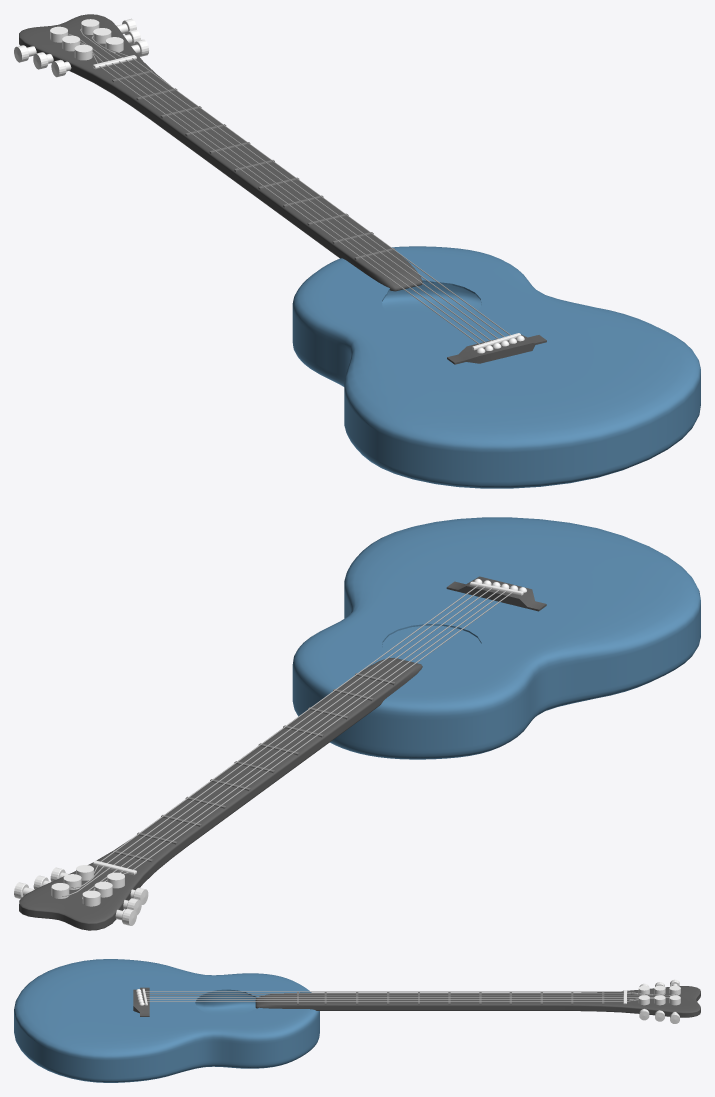
Rendered from toy-guitar.glb.
The picture shows the model from 3 angles, top to bottom: view 1: azimuth 30°, elevation 25°; view 2: azimuth 150°, elevation 25°; view 3: azimuth 270°, elevation 25°; orthographic projection. The views are drawn at different scales.
Visible parts, largest first — view 1: pCylinder4, pCube1, pCube13, pCylinder15, pCylinder18, pCylinder14, pCylinder12, pCylinder17, pCylinder11; view 2: pCylinder4, pCube1, pCube13, pCylinder15, pCylinder18, pCylinder14, pCylinder12, pCylinder17, pCylinder11; view 3: pCylinder4, pCube1, pCylinder12, pCylinder14, pCylinder15, pCylinder11, pCylinder18, pCylinder17, pCube13.
Part boxes in pixels (left/top/right/bottom): pCylinder4: left=292, top=246, right=700, bottom=488; pCube1: left=19, top=14, right=422, bottom=291; pCube13: left=447, top=334, right=546, bottom=364; pCylinder15: left=80, top=28, right=498, bottom=338; pCylinder18: left=91, top=36, right=504, bottom=336; pCylinder14: left=68, top=33, right=491, bottom=340; pCylinder12: left=80, top=42, right=485, bottom=342; pCylinder17: left=111, top=50, right=510, bottom=335; pCylinder11: left=92, top=54, right=479, bottom=344; pCylinder4: left=292, top=517, right=700, bottom=759; pCube1: left=19, top=657, right=422, bottom=930; pCube13: left=446, top=576, right=546, bottom=611; pCylinder15: left=62, top=587, right=492, bottom=896; pCylinder18: left=71, top=586, right=485, bottom=888; pCylinder14: left=81, top=589, right=500, bottom=899; pCylinder12: left=93, top=590, right=506, bottom=890; pCylinder17: left=94, top=584, right=479, bottom=873; pCylinder11: left=123, top=591, right=513, bottom=874; pCylinder4: left=14, top=959, right=319, bottom=1082; pCube1: left=255, top=986, right=700, bottom=1017; pCylinder12: left=145, top=992, right=665, bottom=995; pCylinder14: left=146, top=993, right=677, bottom=995; pCylinder15: left=146, top=997, right=669, bottom=997; pCylinder11: left=145, top=991, right=641, bottom=993; pCylinder18: left=147, top=998, right=654, bottom=999; pCylinder17: left=147, top=999, right=638, bottom=1001; pCube13: left=133, top=987, right=149, bottom=1016.
Bounding box in the file's own units: 0.0648 × 0.0143 × 0.1935.
